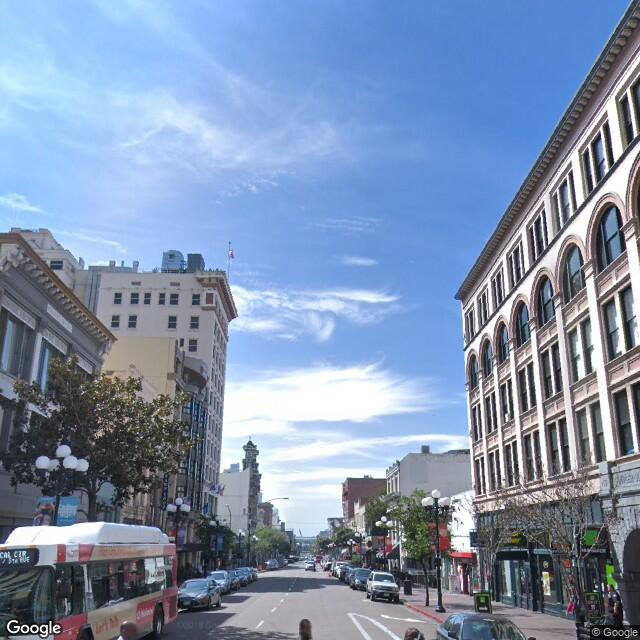window: (608, 391, 640, 458), (564, 328, 602, 379), (545, 416, 574, 473), (593, 213, 622, 255)
